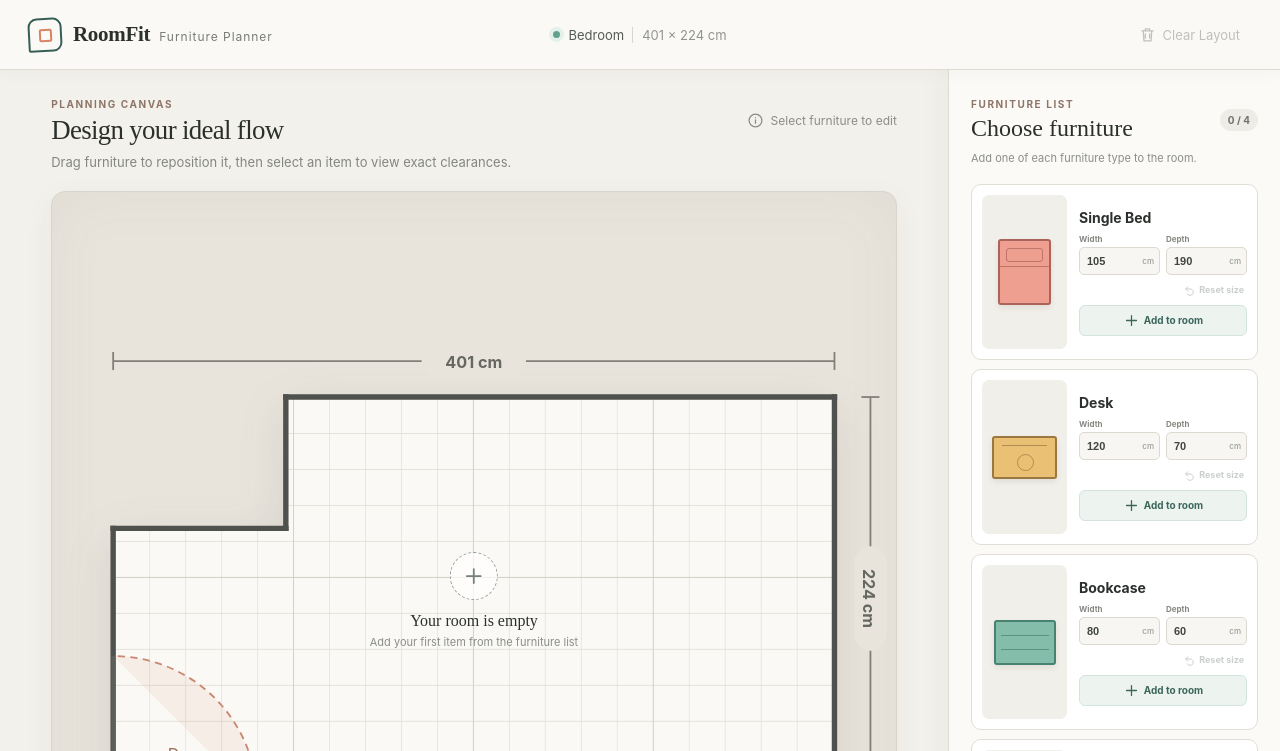
Test case: RoomFit interface › starts empty and lets the user add one furniture item
Expected: the text "Your room is empty" is shown, x1=410 y1=612 x2=538 y2=630
Step 1. Click the button named "Add Single Bed" → (1024, 272), box x1=982 y1=195 x2=1067 y2=349
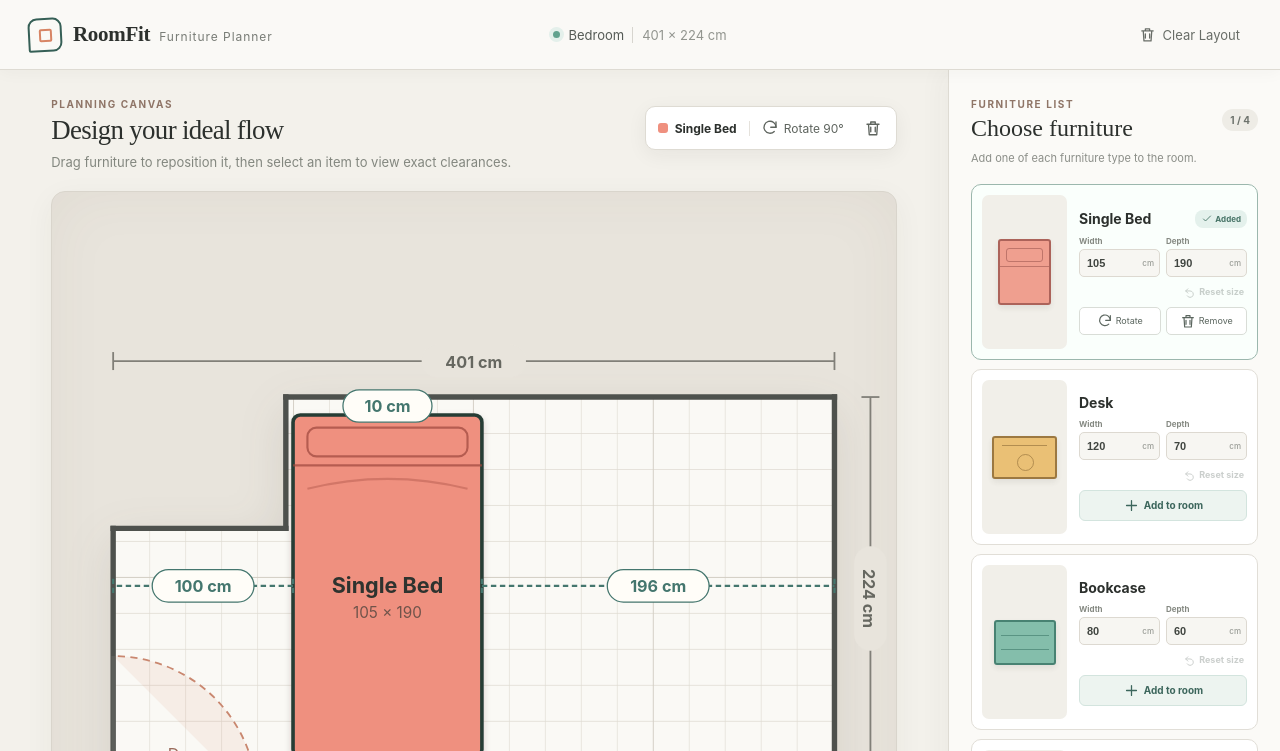
Expected: the button "Single Bed, 105 by 190 centimeters" is shown, x1=332 y1=572 x2=444 y2=622
Now the text "Your room is empty" is gone
Now the text "1 / 4" is shown, box x1=1222 y1=109 x2=1258 y2=131
